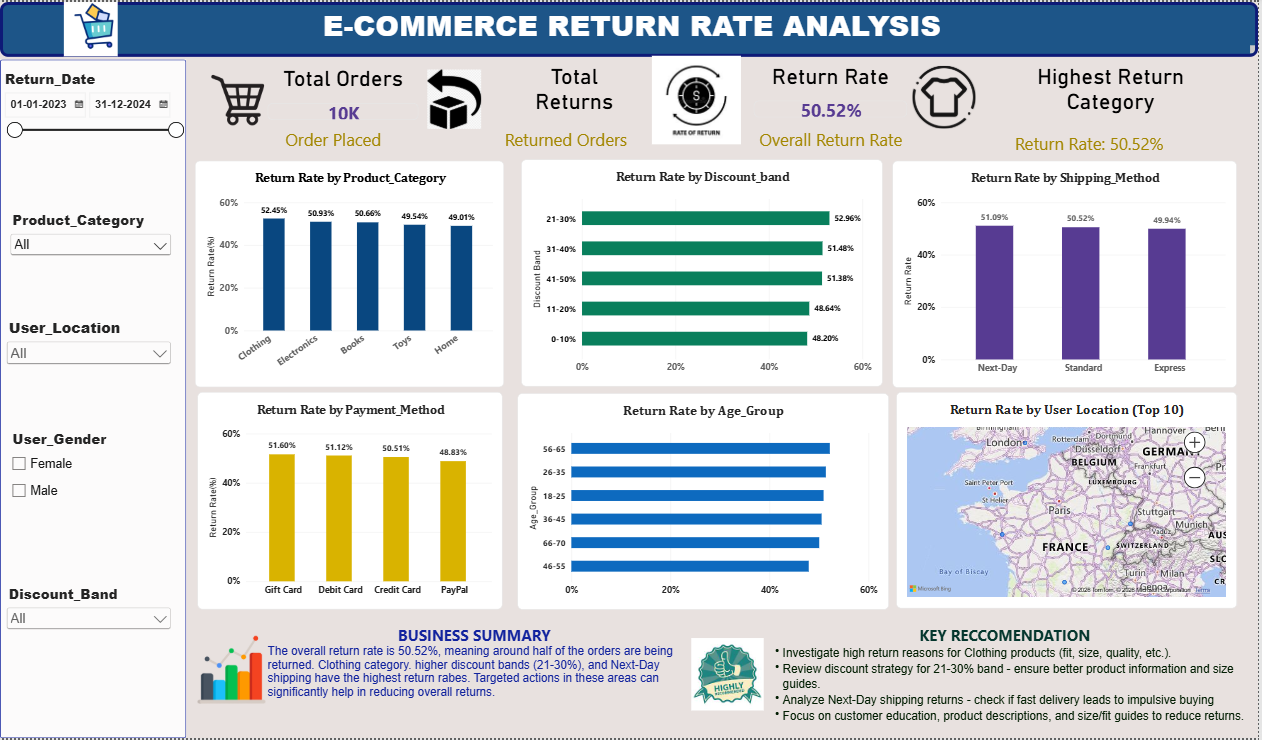

What the dashboard file says about the page in this screenshot:
{"tool":"powerbi","page":{"name":"E-Commerce Returns Dashboard","canvas":[2000,1170],"ordinal":0},"visuals":[{"type":"textbox","title":"E-COMMERCE RETURN RATE ANALYSIS","box":[0,0,2000,87],"z":0},{"type":"shape","box":[0,91.4,296.1,1079],"z":1000},{"type":"slicer","fields":{"Values":["ecommerce_returns_cleaned.Product_Category"]},"box":[11.8,331.3,264.7,105.9],"z":2000},{"type":"slicer","fields":{"Values":["ecommerce_returns_cleaned.User_Location"]},"box":[5.9,499.9,270.5,113.7],"z":3000},{"type":"slicer","fields":{"Values":["ecommerce_returns_cleaned.User_Gender"]},"box":[11.8,680.3,258.8,139.2],"z":4000},{"type":"slicer","fields":{"Values":["ecommerce_returns_cleaned.Discount_band"]},"box":[5.9,925.3,270.5,166.6],"z":5000},{"type":"slicer","fields":{"Values":["ecommerce_returns_cleaned.Return_Date"]},"box":[0,107.3,296.1,164.9],"z":6000},{"type":"cardVisual","title":"Total Orders","fields":{"Data":["ecommerce_returns_cleaned.Total Orders"]},"box":[425.4,101.9,240.7,86.9],"z":7000},{"type":"textbox","box":[393.4,200.7,272.2,51.7],"z":8000},{"type":"image","box":[11.8,0,264.7,86.3],"z":9000},{"type":"cardVisual","title":"Total Returns","fields":{"Data":["ecommerce_returns_cleaned.Total Returns"]},"box":[799.9,98,224.4,86.9],"z":10000},{"type":"textbox","box":[780.3,200,237.2,39.2],"z":11000},{"type":"image","box":[666.6,107.8,112.2,94.1],"z":12000},{"type":"image","box":[999.8,86.3,215.3,141.2],"z":13000},{"type":"cardVisual","title":"Return Rate","fields":{"Data":["ecommerce_returns_cleaned.Return Rate"]},"box":[1197.8,98,244.3,86.9],"z":14000},{"type":"cardVisual","title":"Highest Return Category","fields":{"Data":["ecommerce_returns_cleaned.Highest Return Category"]},"box":[1566.4,98,399.9,99.5],"z":15000},{"type":"textbox","box":[1197.8,200,245.1,52.9],"z":16000},{"type":"image","box":[1442.9,101.9,115.7,100],"z":18000},{"type":"image","box":[309.8,98,135.8,117.2],"z":19000},{"type":"clusteredColumnChart","title":"Return Rate by Product_Category","fields":{"Category":["ecommerce_returns_cleaned.Product_Category"],"Y":["ecommerce_returns_cleaned.Return Rate"]},"box":[310,252.4,490.8,359.7],"z":20000},{"type":"clusteredBarChart","fields":{"Y":["ecommerce_returns_cleaned.Return Rate"],"Category":["ecommerce_returns_cleaned.Discount_band"]},"box":[828.6,250.4,574.4,360.7],"z":21000},{"type":"columnChart","fields":{"Category":["ecommerce_returns_cleaned.Shipping_Method"],"Y":["ecommerce_returns_cleaned.Return Rate"]},"box":[1419.4,252.9,547,360.7],"z":22000},{"type":"columnChart","fields":{"Y":["ecommerce_returns_cleaned.Return Rate"],"Category":["ecommerce_returns_cleaned.Payment_Method"]},"box":[314,620,484.9,345.8],"z":23000},{"type":"clusteredBarChart","fields":{"Category":["ecommerce_returns_cleaned.Age_Group"],"Y":["ecommerce_returns_cleaned.Return Rate"]},"box":[822.7,622,590.2,343.8],"z":24000},{"type":"map","title":" Return Rate by User Location (Top 10)","fields":{"Category":["ecommerce_returns_cleaned.User_Location"]},"box":[1425.3,619.5,541.2,344.1],"z":25000},{"type":"image","box":[309.8,1007.7,115.7,107.8],"z":26000},{"type":"textbox","box":[425.2,989.6,657.7,164.9],"z":27000},{"type":"image","box":[1099.8,1005.7,115.3,126.5],"z":28000},{"type":"textbox","box":[1215.5,990,762.6,164.7],"z":29000},{"type":"cardVisual","fields":{"Data":["ecommerce_returns_cleaned.Return Rate Text"]},"box":[1597.6,196.7,341.8,55.6],"z":29001}]}

Visuals, with their boxes in screenshot pixels (x1, y1, x2, y2), scaled from the page's 2000x1170 canvas onto the 1262x740 screenshot:
"E-COMMERCE RETURN RATE ANALYSIS" textbox: pyautogui.locateOnScreen(0, 0, 1261, 55)
shape: pyautogui.locateOnScreen(0, 58, 187, 739)
slicer - ecommerce_returns_cleaned.Product_Category: pyautogui.locateOnScreen(7, 210, 174, 277)
slicer - ecommerce_returns_cleaned.User_Location: pyautogui.locateOnScreen(4, 316, 174, 388)
slicer - ecommerce_returns_cleaned.User_Gender: pyautogui.locateOnScreen(7, 430, 171, 518)
slicer - ecommerce_returns_cleaned.Discount_band: pyautogui.locateOnScreen(4, 585, 174, 691)
slicer - ecommerce_returns_cleaned.Return_Date: pyautogui.locateOnScreen(0, 68, 187, 172)
"Total Orders" cardVisual: pyautogui.locateOnScreen(268, 64, 420, 119)
textbox: pyautogui.locateOnScreen(248, 127, 420, 160)
image: pyautogui.locateOnScreen(7, 0, 174, 55)
"Total Returns" cardVisual: pyautogui.locateOnScreen(505, 62, 646, 117)
textbox: pyautogui.locateOnScreen(492, 126, 642, 151)
image: pyautogui.locateOnScreen(421, 68, 491, 128)
image: pyautogui.locateOnScreen(631, 55, 767, 144)
"Return Rate" cardVisual: pyautogui.locateOnScreen(756, 62, 910, 117)
"Highest Return Category" cardVisual: pyautogui.locateOnScreen(988, 62, 1241, 125)
textbox: pyautogui.locateOnScreen(756, 126, 910, 160)
image: pyautogui.locateOnScreen(910, 64, 983, 128)
image: pyautogui.locateOnScreen(195, 62, 281, 136)
"Return Rate by Product_Category" clusteredColumnChart: pyautogui.locateOnScreen(196, 160, 505, 387)
clusteredBarChart - ecommerce_returns_cleaned.Return Rate x ecommerce_returns_cleaned.Discount_band: pyautogui.locateOnScreen(523, 158, 885, 387)
columnChart - ecommerce_returns_cleaned.Shipping_Method x ecommerce_returns_cleaned.Return Rate: pyautogui.locateOnScreen(896, 160, 1241, 388)
columnChart - ecommerce_returns_cleaned.Return Rate x ecommerce_returns_cleaned.Payment_Method: pyautogui.locateOnScreen(198, 392, 504, 611)
clusteredBarChart - ecommerce_returns_cleaned.Age_Group x ecommerce_returns_cleaned.Return Rate: pyautogui.locateOnScreen(519, 393, 892, 611)
" Return Rate by User Location (Top 10)" map: pyautogui.locateOnScreen(899, 392, 1241, 609)
image: pyautogui.locateOnScreen(195, 637, 268, 706)
textbox: pyautogui.locateOnScreen(268, 626, 683, 730)
image: pyautogui.locateOnScreen(694, 636, 767, 716)
textbox: pyautogui.locateOnScreen(767, 626, 1248, 730)
cardVisual - ecommerce_returns_cleaned.Return Rate Text: pyautogui.locateOnScreen(1008, 124, 1224, 160)
